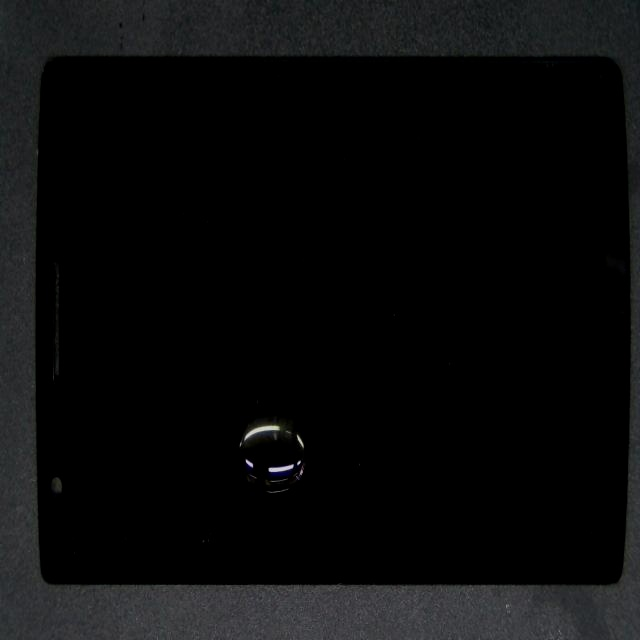oil: (154, 195, 395, 634)
